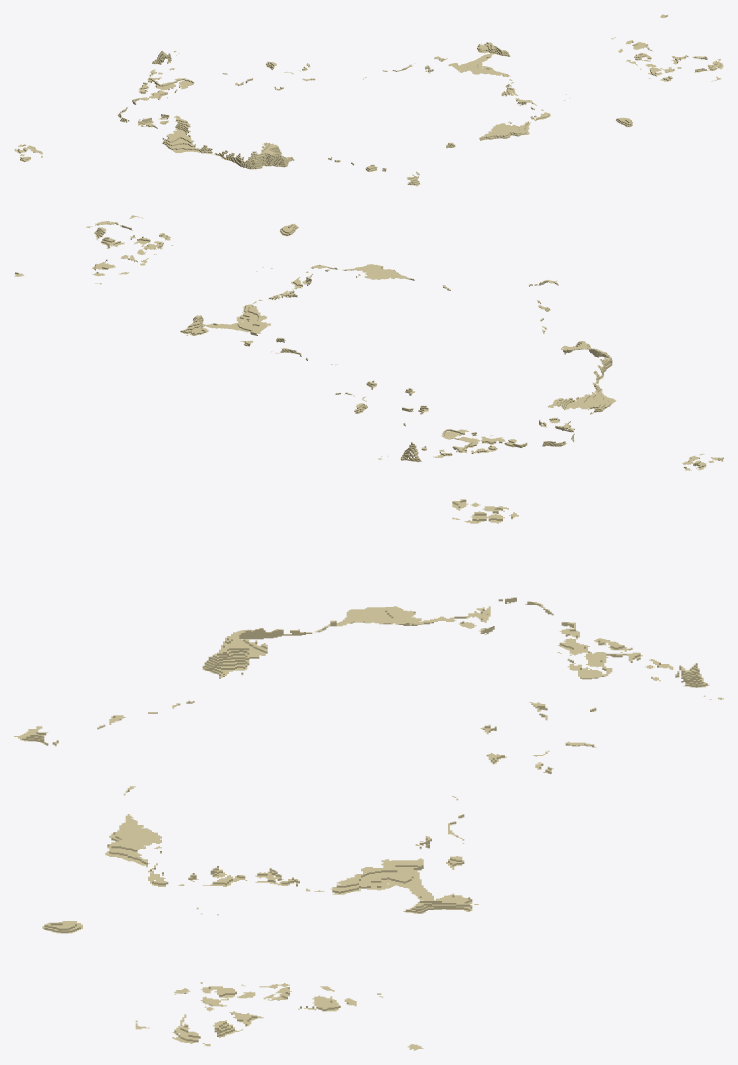
The model's file is Sand.fbx.
The picture shows the model from 3 angles, top to bottom: view 1: azimuth 30°, elevation 25°; view 2: azimuth 150°, elevation 25°; view 3: azimuth 270°, elevation 25°; orthographic projection. The views are drawn at different scales.
Visible parts, largest first — view 1: Sand; view 2: Sand; view 3: Sand.
Part boxes in pixels (x1,y1,x2,y2): Sand: (14,14,723,186); Sand: (14,215,723,470); Sand: (14,499,723,1050).
Bounding box in the file's own units: 64100 × 1100 × 35000.
Materials: 1 (1 with a texture image).
